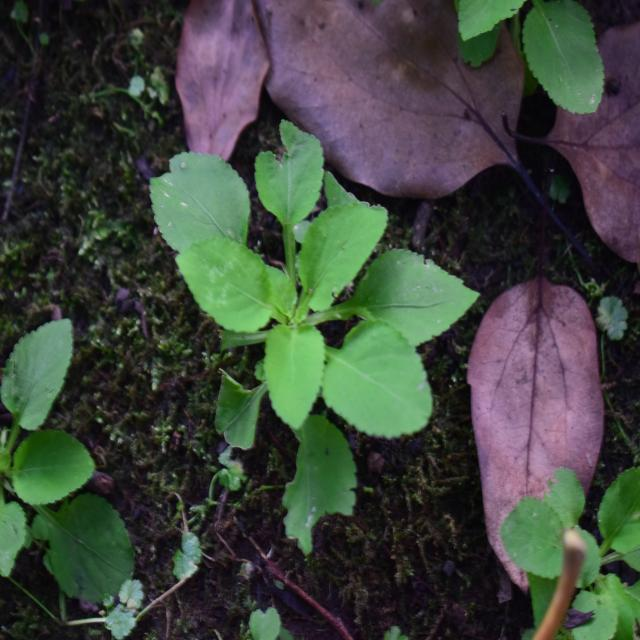Viola: (165, 154, 423, 501)
